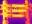Hotspot: (2, 0, 8, 17), (12, 3, 27, 8), (11, 9, 28, 13), (26, 0, 29, 18), (12, 14, 25, 18), (2, 17, 8, 23)
